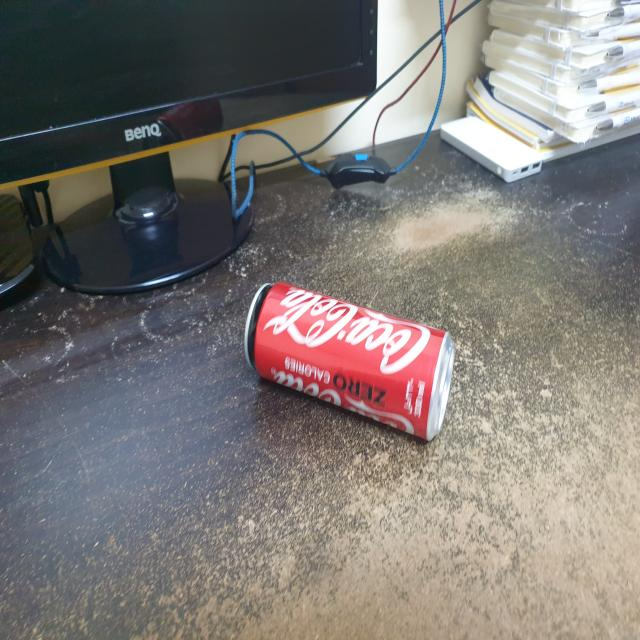non-organic waste: (220, 271, 468, 458)
